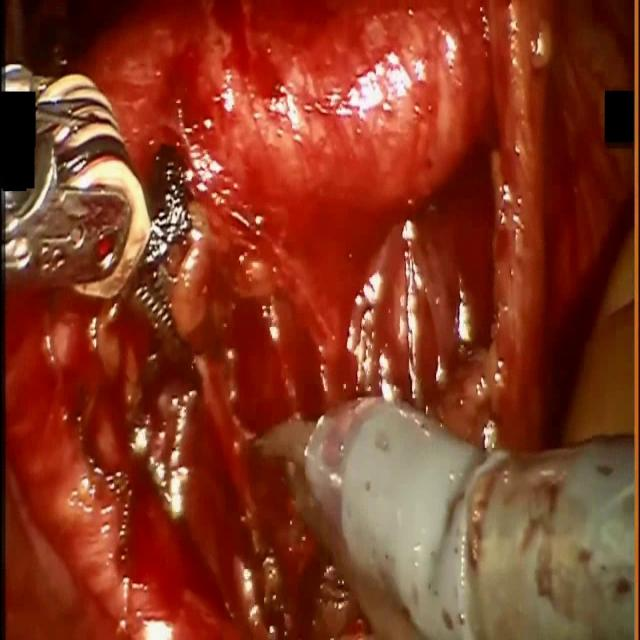surgical-area: (0, 0, 638, 639)
surgical-tool: (250, 396, 638, 639), (0, 62, 153, 307)
